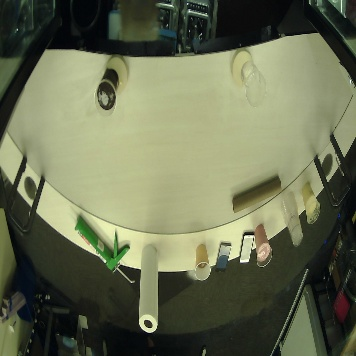empty_cup: (240, 59, 269, 108)
full_cup: (93, 68, 122, 114), (250, 220, 276, 269), (297, 180, 324, 224)
puck: (101, 52, 130, 92), (229, 45, 254, 87)
